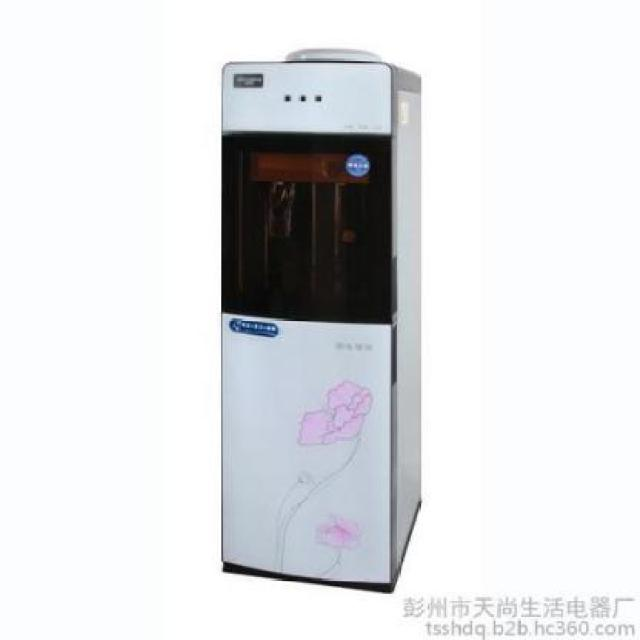cooler: (214, 43, 426, 598)
